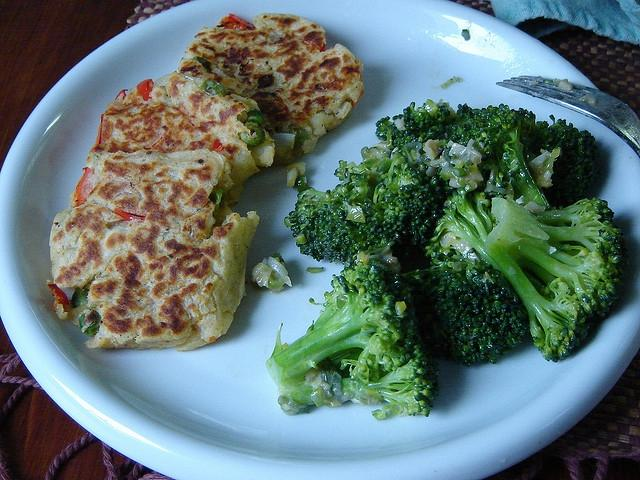broccoli: (265, 258, 441, 420), (482, 197, 630, 364), (284, 148, 454, 271), (398, 264, 530, 365), (392, 99, 458, 142)
